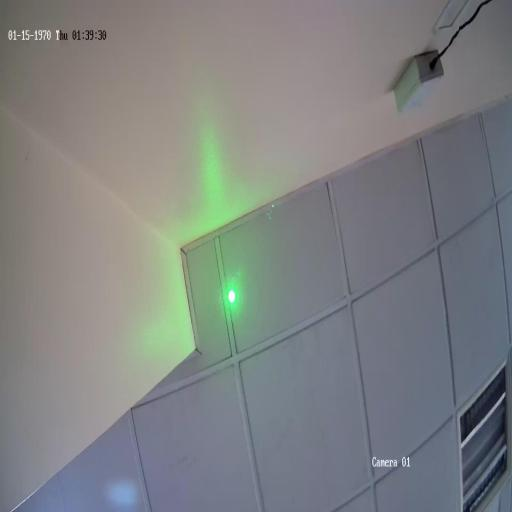laser: (218, 272, 243, 323)
